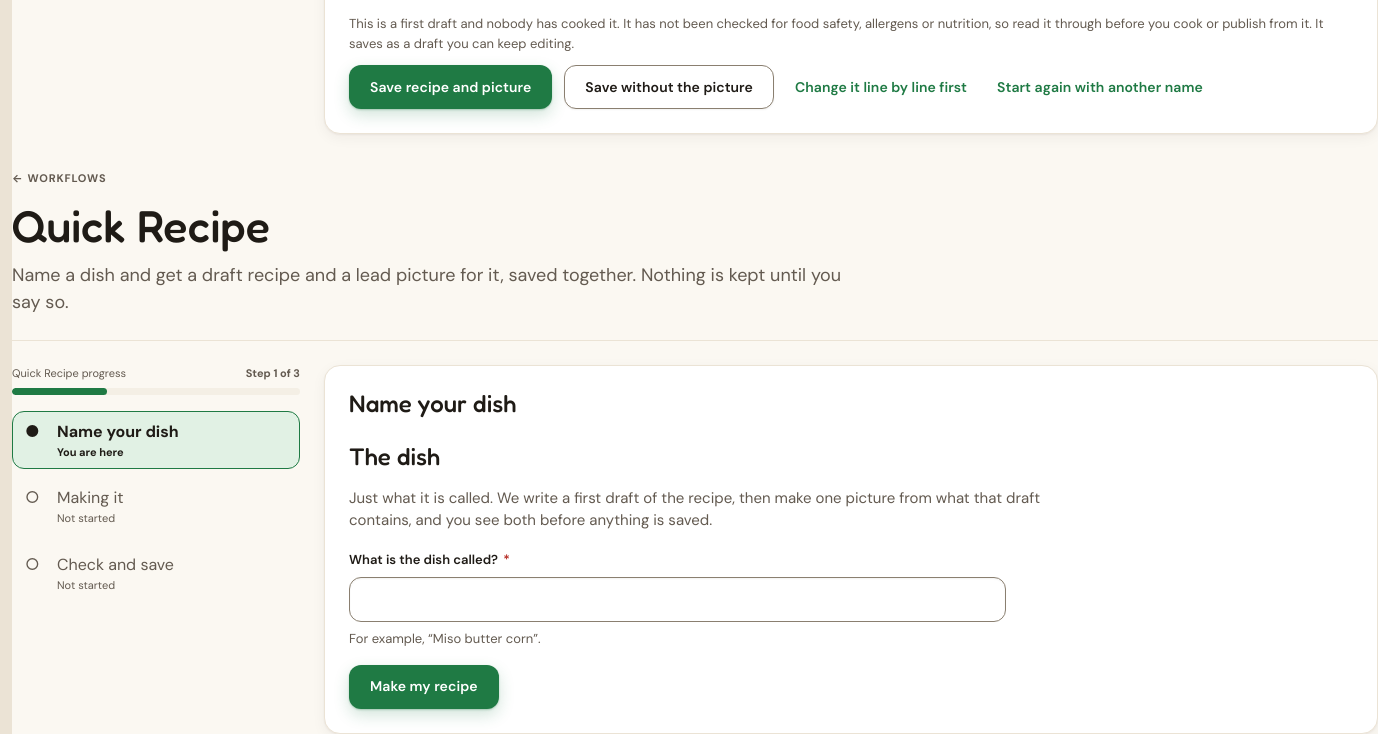
Scenario: QuickRecipeComponent › checking it › still offers the recipe when planning the picture was refused
(page scrolled)
Step 1. Type "Miso butter corn" into the field with id "cp-quick-recipe-name" → (677,599), box [349,577,1006,622]
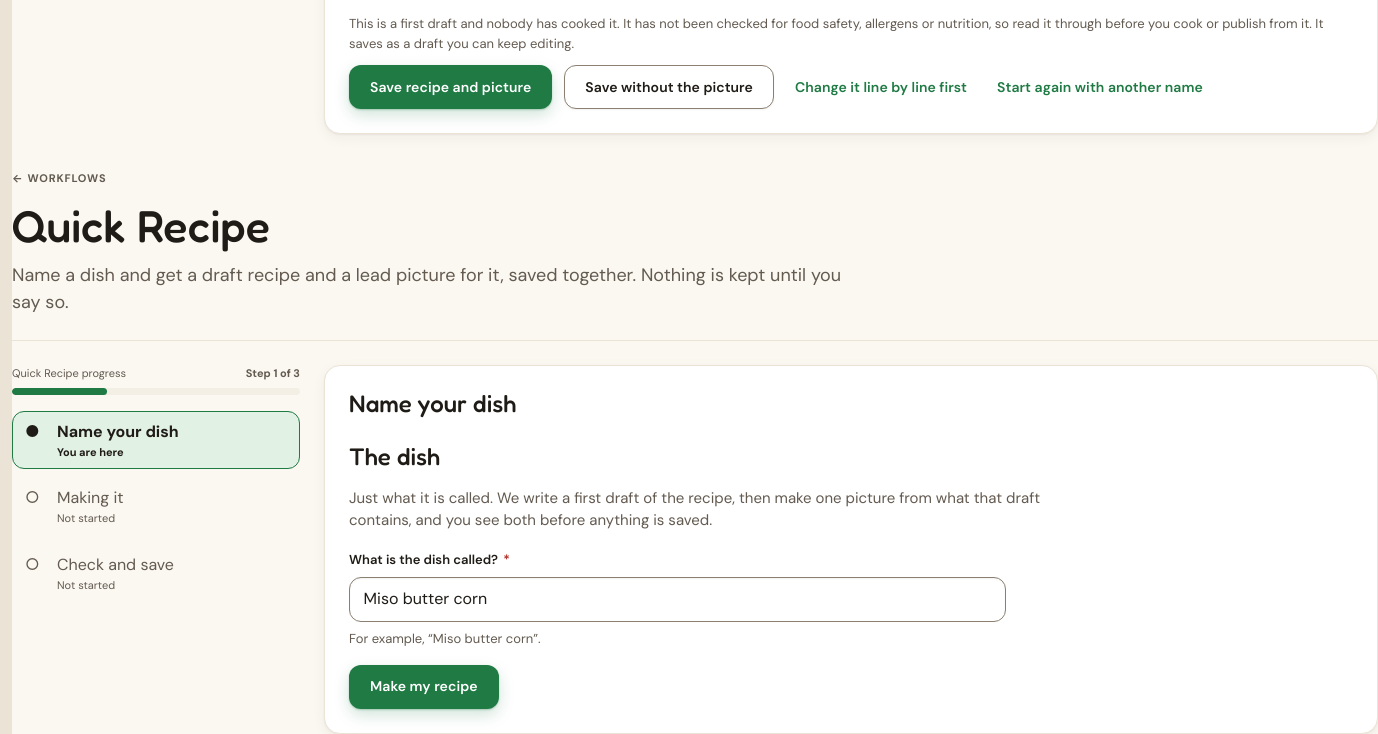
Step 2. Click the button "Make my recipe" → (424,687), box [349,665,499,709]
(page scrolled)
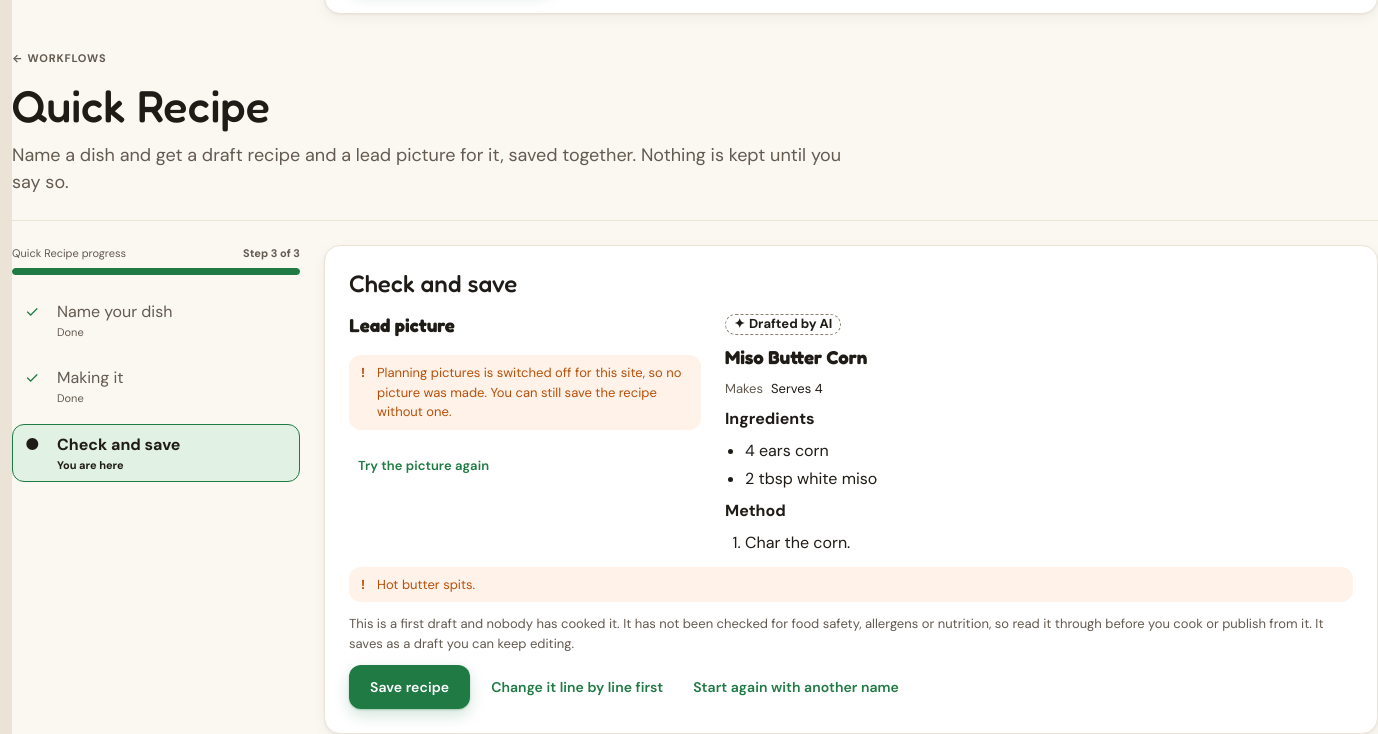
expect the text "Planning pictures is switched off" is shown: met, box [377,364,681,420]
expect the button "Save recipe" is shown: met, box [349,665,470,709]
